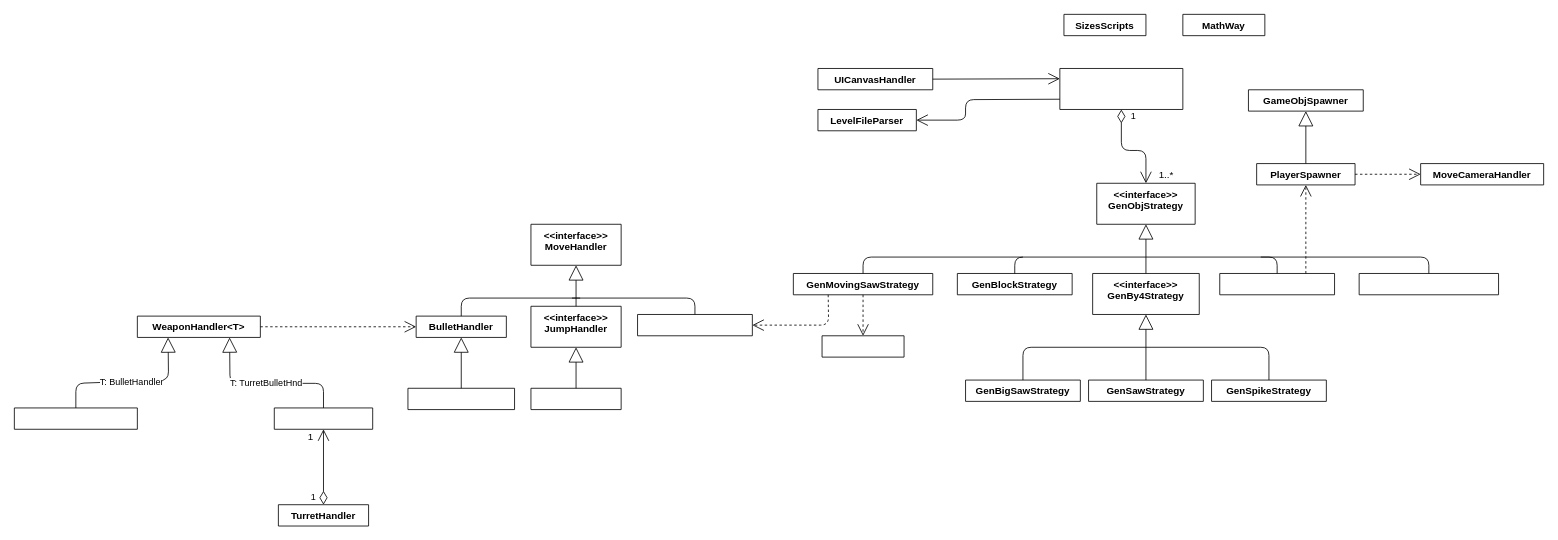
Some shapes in this 1558 by 540 pixel diagram are drawn without their labels. Here are the shapes that lost their labels. From the top down, the box of each, then its label:
(1059, 68, 1183, 109): GameSceneHandler
(1219, 273, 1335, 295): GenPlayerStrategy
(1358, 273, 1499, 295): GenTurretStrategy
(637, 314, 752, 336): MoveSawHandler
(821, 335, 904, 357): SelfRotator
(14, 407, 137, 429): StdWeaponHandler
(273, 407, 373, 429): TurretWeaponHnd
(407, 387, 515, 410): TurretBulletHnd
(530, 387, 621, 410): PlayerHandler
